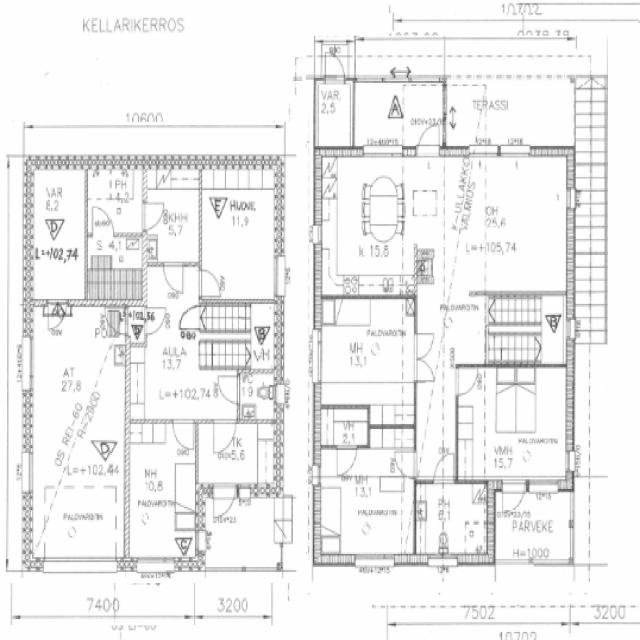door: (502, 483, 526, 527), (212, 484, 235, 527), (418, 125, 440, 167), (214, 419, 236, 456), (172, 419, 194, 455), (92, 202, 115, 236), (141, 203, 167, 231), (217, 376, 241, 404), (106, 307, 130, 334), (48, 299, 67, 333), (164, 262, 184, 294), (337, 444, 357, 476), (325, 65, 345, 96), (434, 456, 454, 487), (394, 451, 417, 477), (199, 269, 221, 296), (144, 307, 166, 334), (456, 376, 477, 400), (414, 333, 434, 358), (414, 358, 434, 382), (183, 307, 202, 329)
